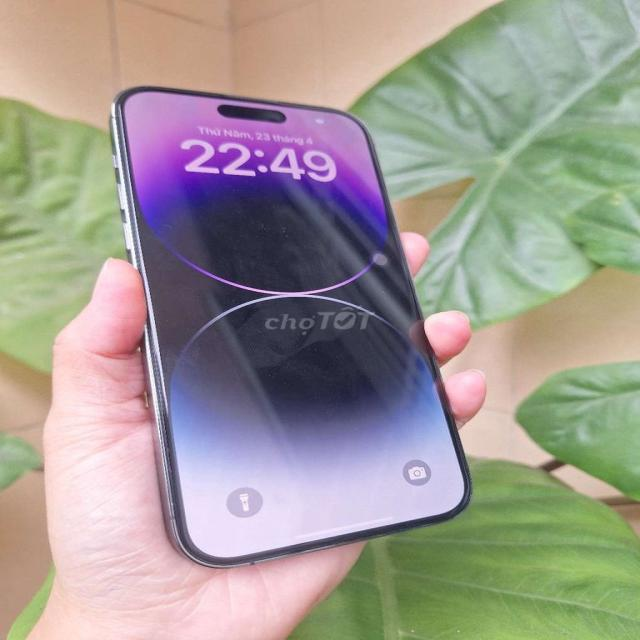gen_14: (108, 74, 495, 574)
